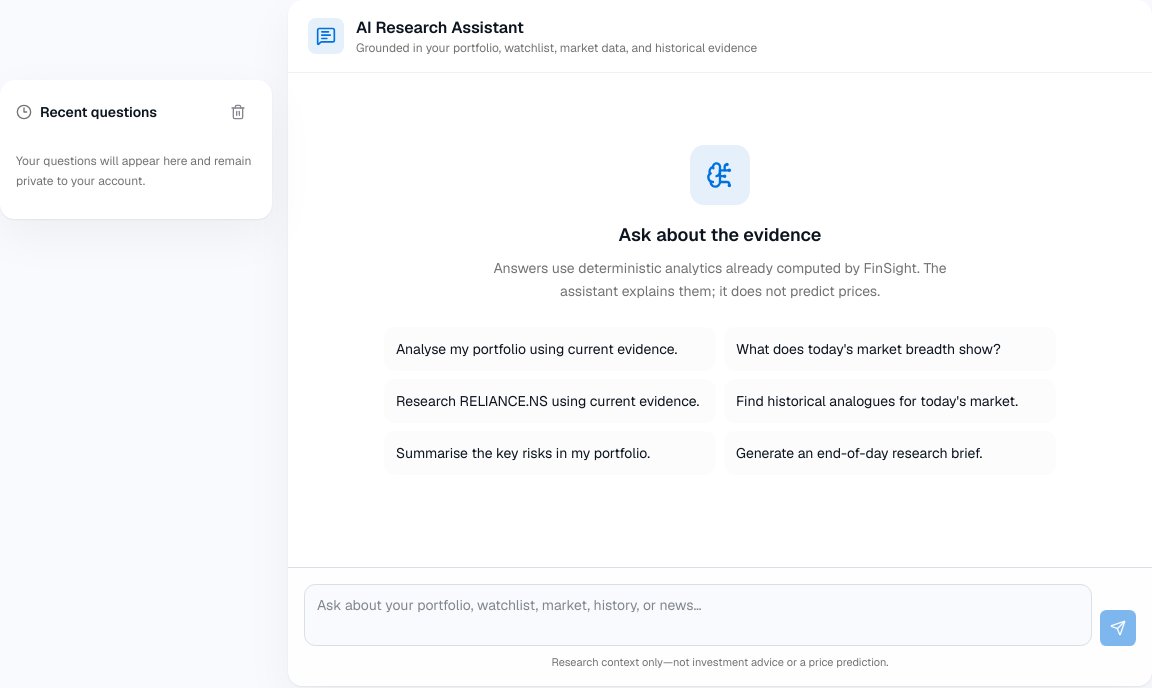
Scenario: ChatPage › streams a suggested question and renders evidence, confidence, and sources
The image size is (1152, 688).
Click the button "What does today's market breadth show?" at (890, 348), box [724,326,1056,370]
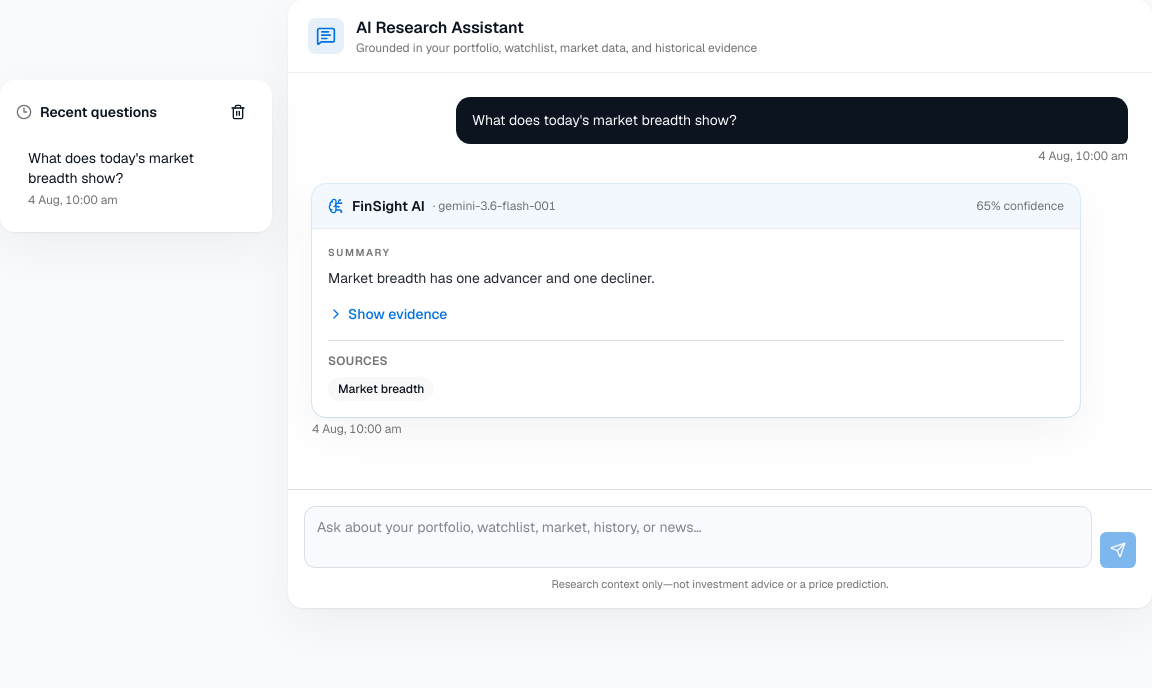
Result: the text "Market breadth has one advancer and one decliner." is shown at [328,269,654,287]
Result: the text "· gemini-3.6-flash-001" is shown at [433,198,556,214]
Result: the text "65% confidence" is shown at [976,198,1064,214]
Click the button "Show evidence" at (388, 314), box [328,304,447,324]
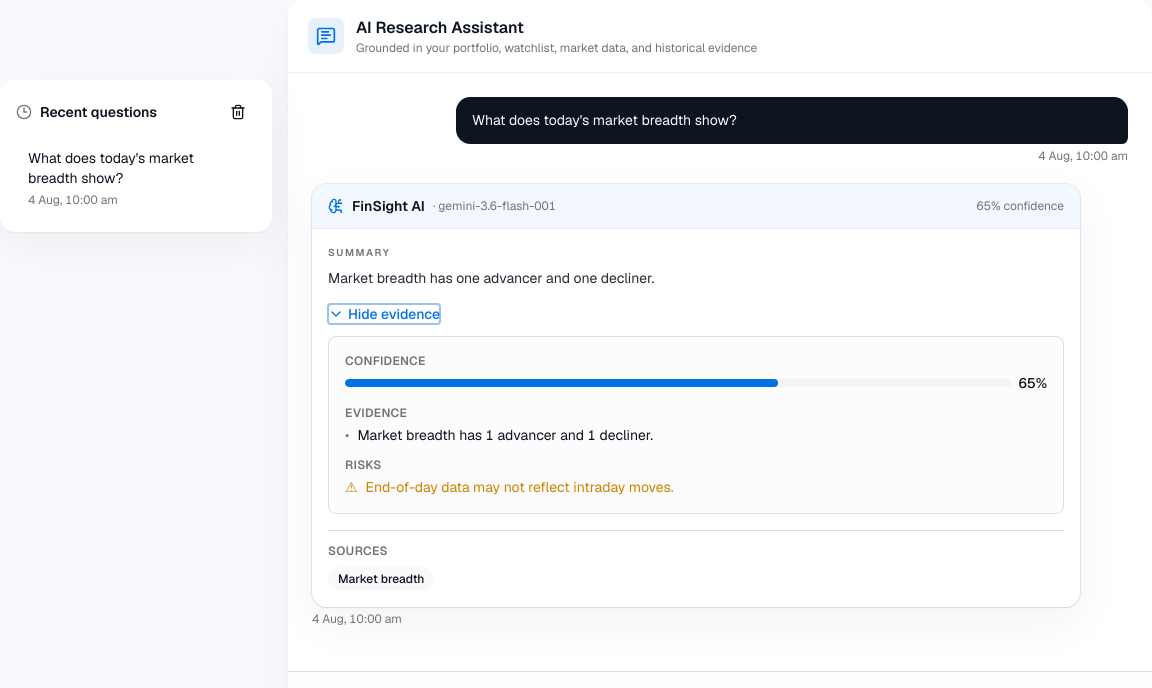
Result: the text "Market breadth has 1 advancer and 1 decliner." is shown at [357,425,653,445]
Result: the text "End-of-day data may not reflect intraday moves." is shown at [366,477,674,497]
